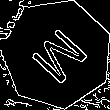M_SE: (22, 20, 91, 88)
